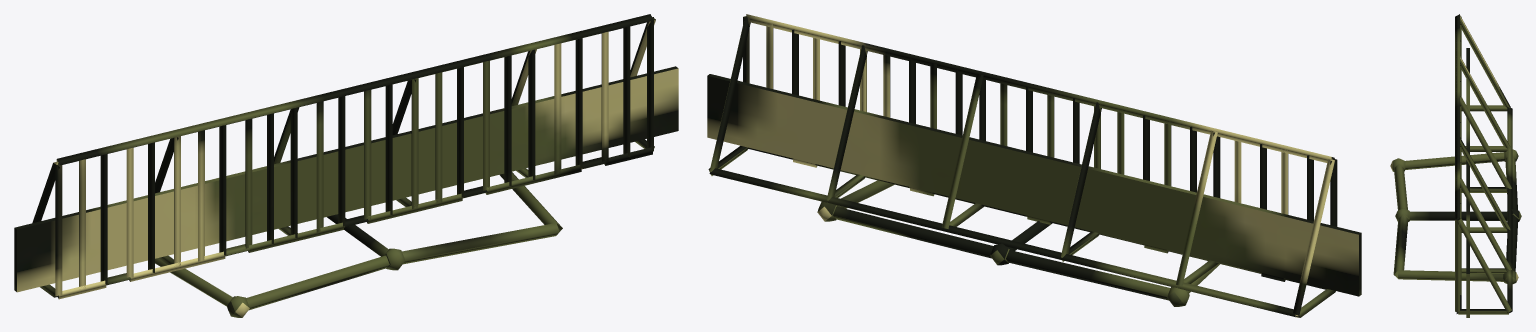
Rendered from part_ssr.fbx.
3 views of the same model, side by side, from view 1: azimuth 30°, elevation 25°; view 2: azimuth 150°, elevation 25°; view 3: azimuth 270°, elevation 25° (orthographic). The views are drawn at different scales.
Parts seen in each view (by area): view 1: 3d66-Editable_Poly-20185282-001; view 2: 3d66-Editable_Poly-20185282-001; view 3: 3d66-Editable_Poly-20185282-001.
Boxes of the visible parts, x1,y1,x2,y2 form: 3d66-Editable_Poly-20185282-001: [14, 14, 678, 317]; 3d66-Editable_Poly-20185282-001: [707, 14, 1361, 317]; 3d66-Editable_Poly-20185282-001: [1390, 14, 1521, 317].
Bounding box in the file's own units: 317 × 73.48 × 77.87.
1 material, 1 textured.
